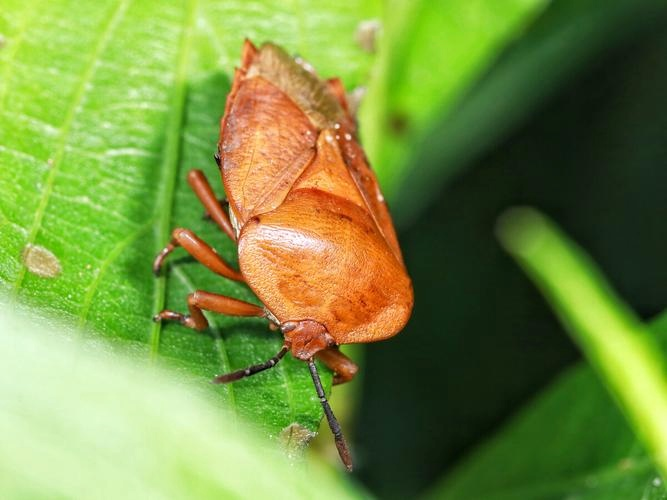Stink_Bug: (185, 52, 417, 373)
